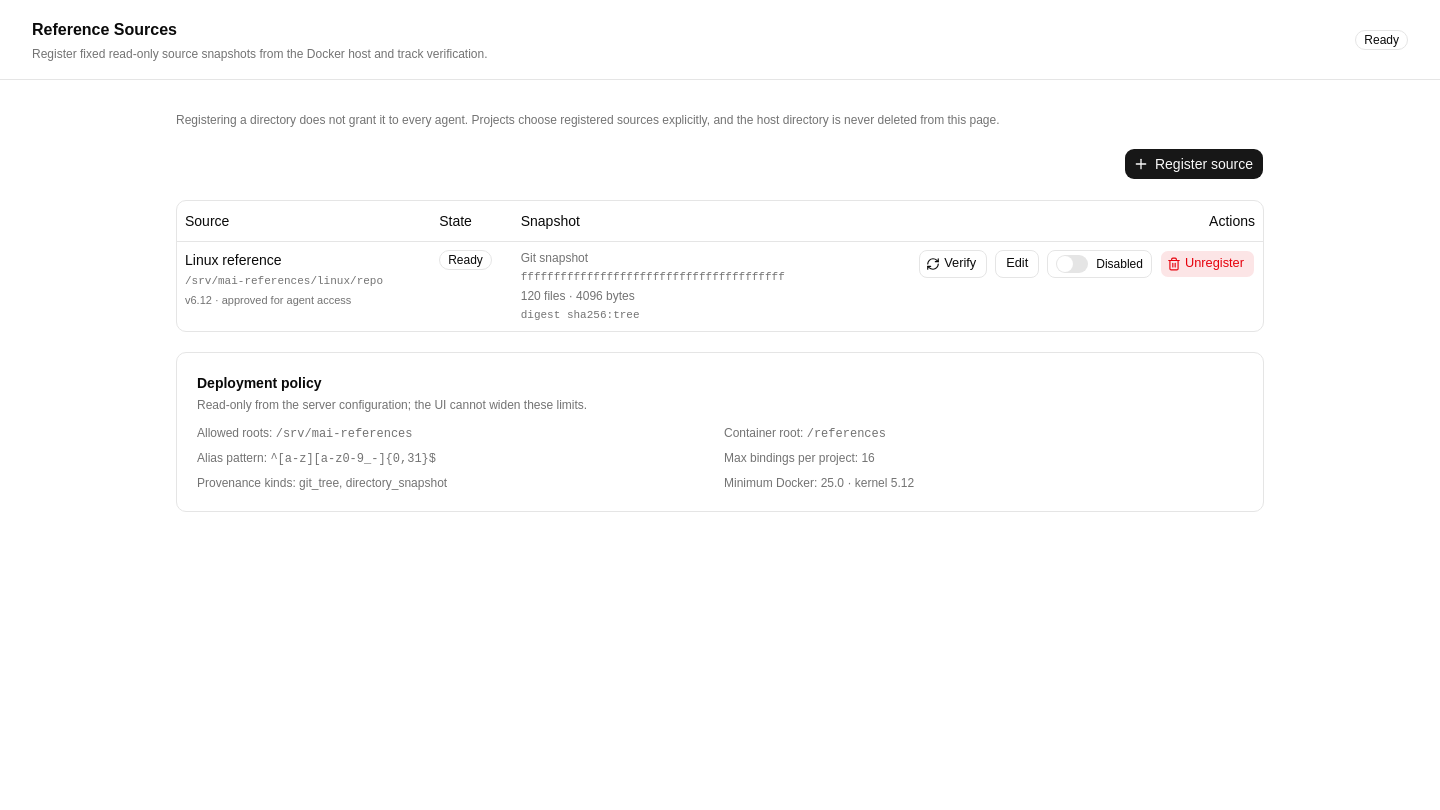
Test: reference sources settings page › reports a source that is still in use instead of unregistering it
The image size is (1440, 810).
Click the button "Unregister" at (1208, 264), box [1160,250,1255,278]
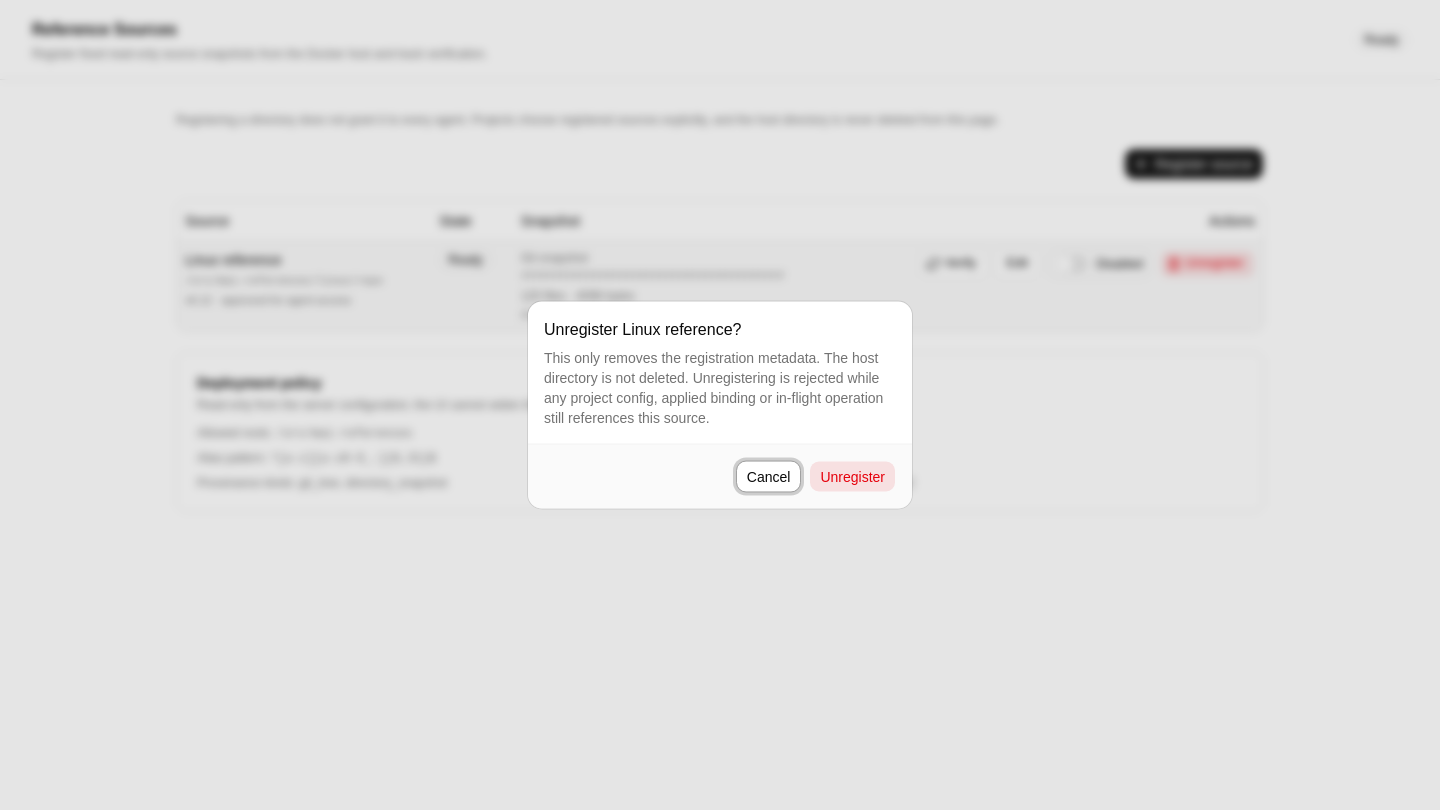
Click the button with aria-label "Confirm unregister Linux reference" at (853, 476), box [809,460,896,492]
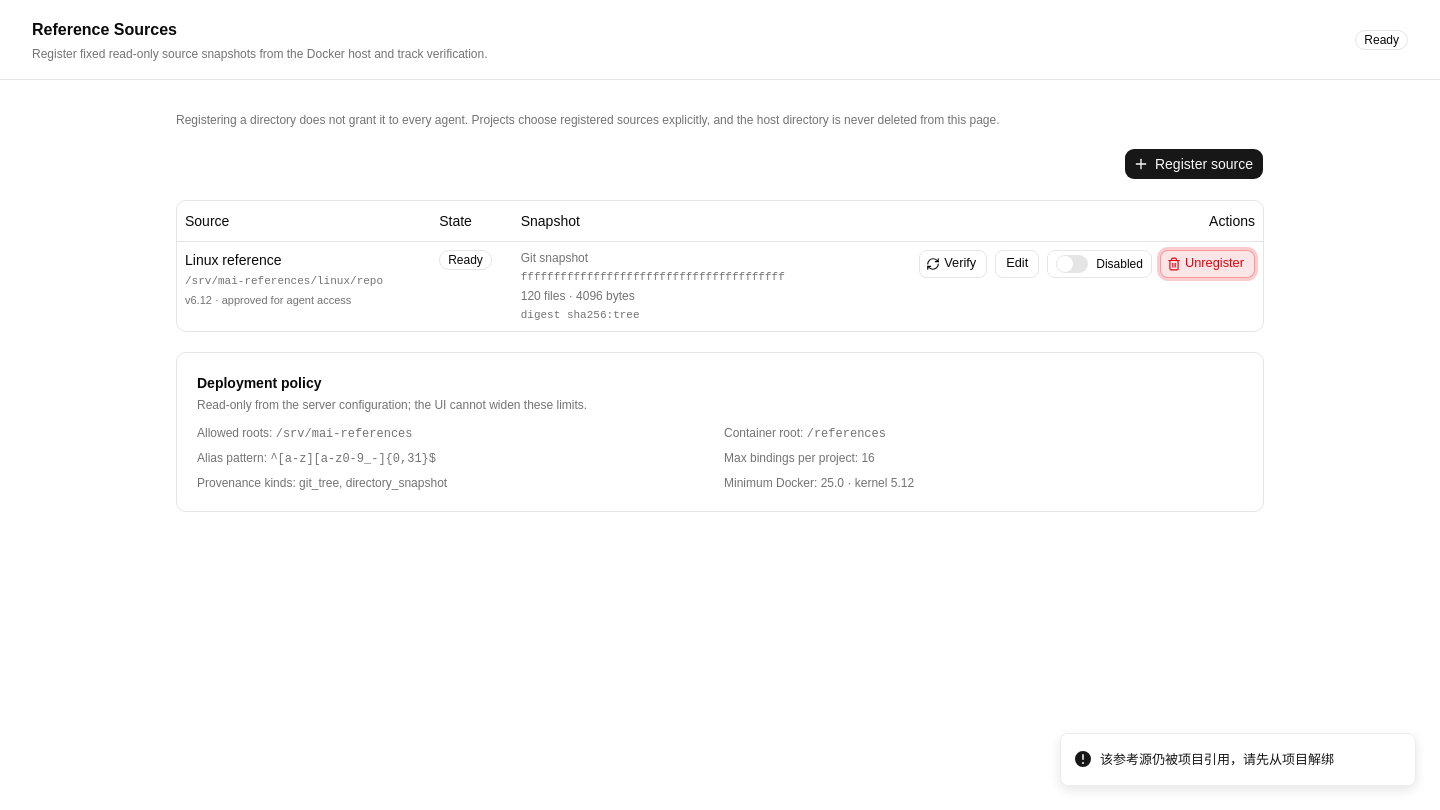
Expected: the text "Linux reference" is shown, [185,252,282,268]
Now the text "该参考源仍被项目引用，请先从项目解绑" is shown, box [1100,750,1334,769]
